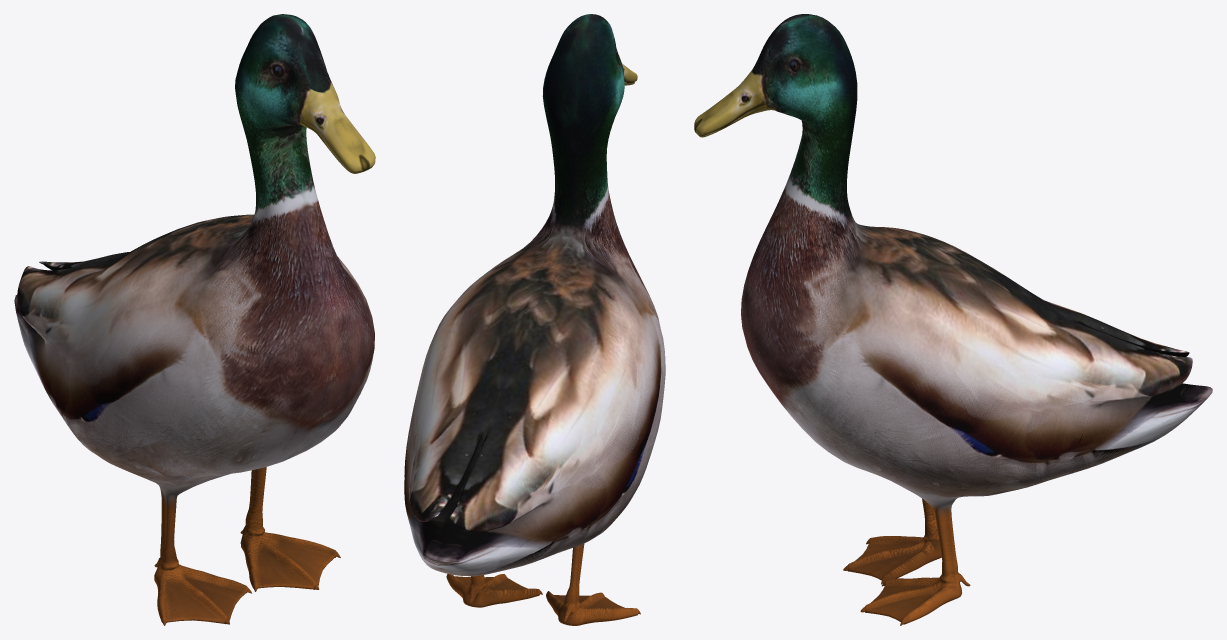
Rendered from duck1.obj.
The picture shows the model from 3 angles, left to right: view 1: azimuth 30°, elevation 25°; view 2: azimuth 150°, elevation 25°; view 3: azimuth 270°, elevation 25°; orthographic projection. The views are drawn at different scales.
Visible parts, largest first — view 1: 12248_Bird_v1_L2.003; view 2: 12248_Bird_v1_L2.003; view 3: 12248_Bird_v1_L2.003.
Boxes of the visible parts, <box> form: 12248_Bird_v1_L2.003: <box>14,14,375,625</box>; 12248_Bird_v1_L2.003: <box>404,14,665,625</box>; 12248_Bird_v1_L2.003: <box>694,14,1212,625</box>.
Bounding box in the file's own units: 0.6596 × 1.67 × 1.38.
1 material, 1 textured.
